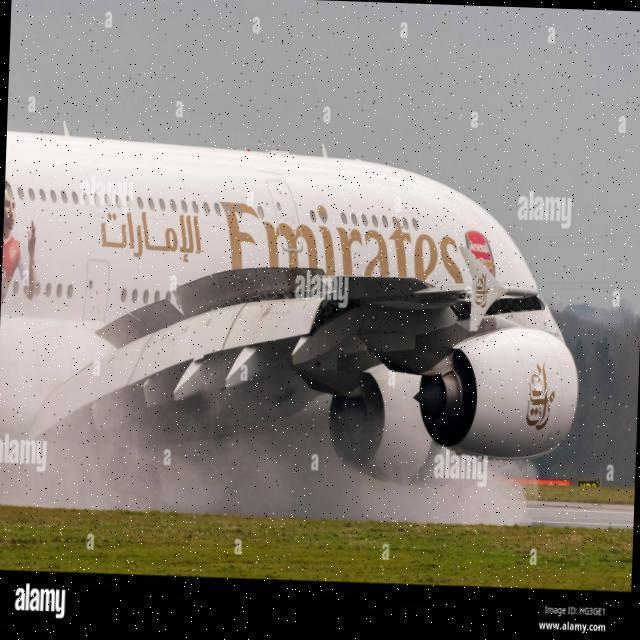Emirates: (218, 198, 466, 298)
